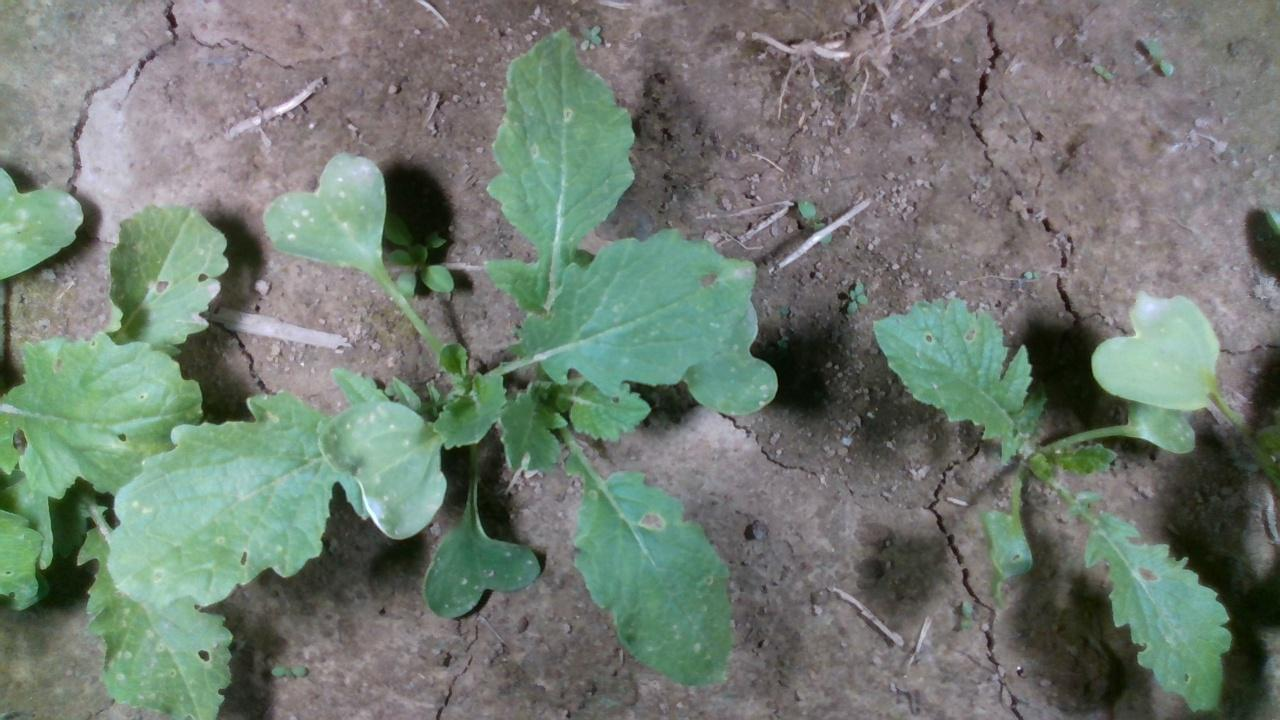weed: (1091, 64, 1112, 80)
